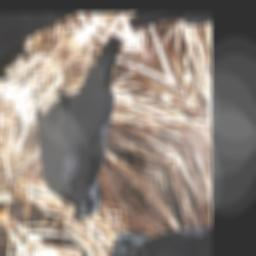Crow: (0, 30, 197, 230)
